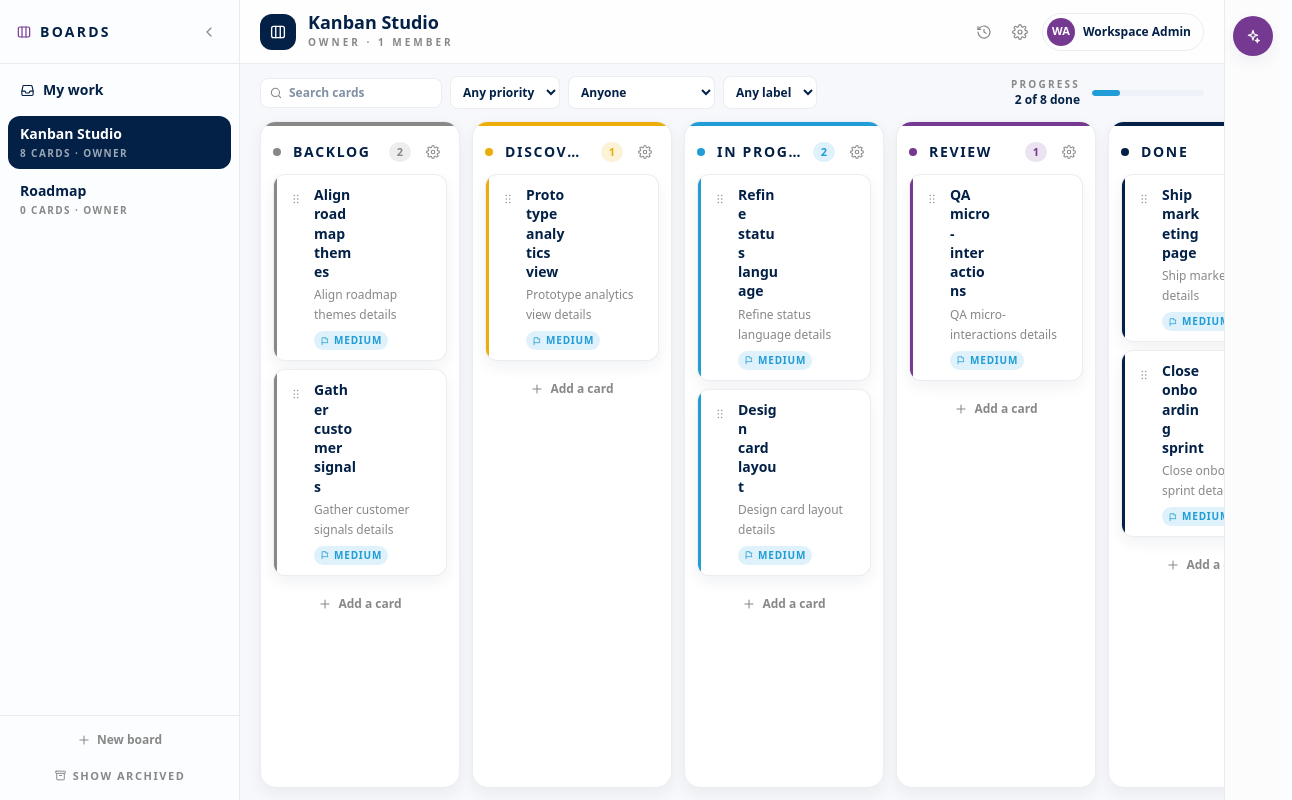
Test case: Workspace boards › switches to another board
Click the button with test id "board-option-2": (120, 200) [8,173,231,226]
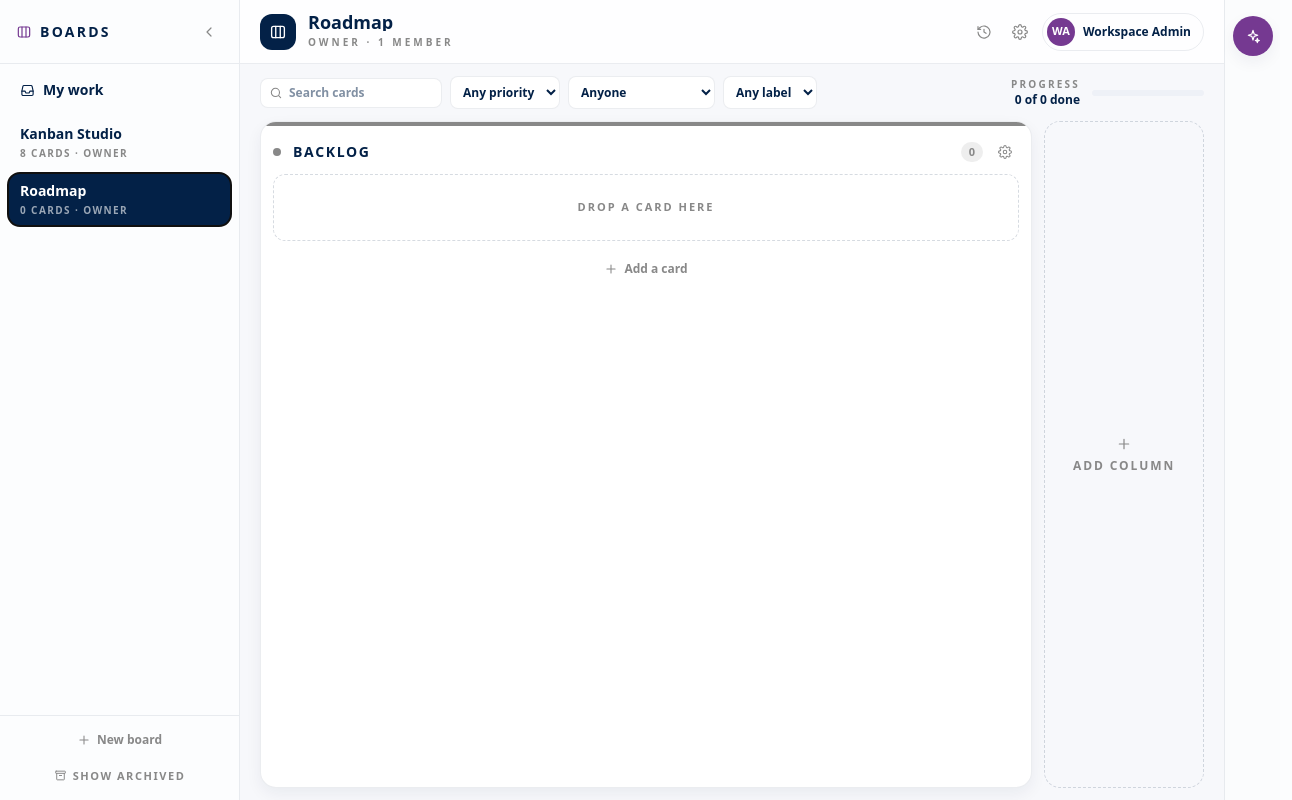
Check: the heading "Roadmap" is shown, box [308,10,393,34]
